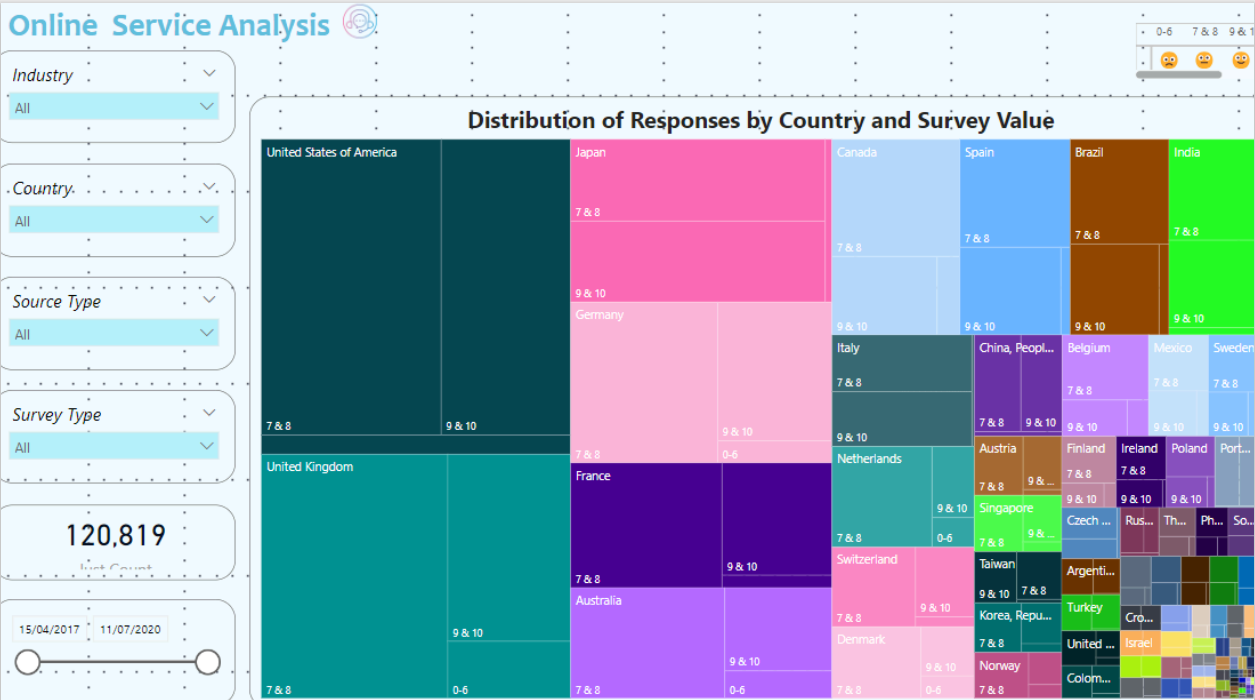

Layout of this report page (visuals, bound fields, positions):
{"tool":"powerbi","page":{"name":"Duplicate of Survey Type","canvas":[1280,720],"ordinal":1},"visuals":[{"type":"textbox","box":[10,0,445.7,60],"z":0},{"type":"image","box":[330.9,0,73.7,44.6],"z":1000},{"type":"slicer","fields":{"Values":["NPS.Industry"]},"box":[0,52.2,243.4,92.6],"z":2000},{"type":"slicer","fields":{"Values":["CountryList.Country Name"]},"box":[0,164.5,243.3,93.3],"z":3000},{"type":"slicer","fields":{"Values":["NPS.Source Type"]},"box":[0,277.5,243.3,93.3],"z":4000},{"type":"card","fields":{"Values":["NPS.Just Count"]},"box":[0,505,243.3,75],"z":5000},{"type":"slicer","fields":{"Values":["NPS.Survey Type"]},"box":[0,390.6,243.3,93.3],"z":6000},{"type":"slicer","fields":{"Values":["NPS.Response Date"]},"box":[0,600,243.3,106.7],"z":7000},{"type":"treemap","title":"Distribution of Responses by Country and Survey Value","fields":{"Values":["NPS.Just Count"],"Details":["NPS.Survey Value (groups)"],"Group":["CountryList.Country Name"]},"box":[256.7,98.3,1023.3,611.7],"z":8000},{"type":"pivotTable","fields":{"Columns":["Emoji.Score"],"Values":["Min(Emoji.EmojiIcon)"]},"box":[1125,6.7,155,78.3],"z":9000}]}

Visuals, with their boxes on the page's 1280x720 design canvas (x1, y1, x2, y2). These are canvas units, not pixel positions in the 1255x700 screenshot, which may show the page scaled, cropped or inside an application window:
textbox: 10,0,456,60
image: 331,0,405,45
slicer - NPS.Industry: 0,52,243,145
slicer - CountryList.Country Name: 0,164,243,258
slicer - NPS.Source Type: 0,278,243,371
card - NPS.Just Count: 0,505,243,580
slicer - NPS.Survey Type: 0,391,243,484
slicer - NPS.Response Date: 0,600,243,707
"Distribution of Responses by Country and Survey Value" treemap: 257,98,1280,710
pivotTable - Emoji.Score x Min(Emoji.EmojiIcon): 1125,7,1280,85
